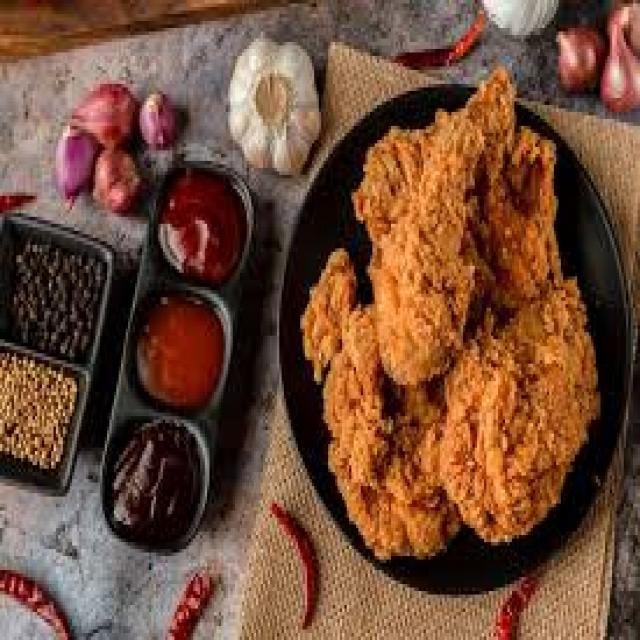Frango: (458, 303, 624, 563), (367, 132, 482, 394)
